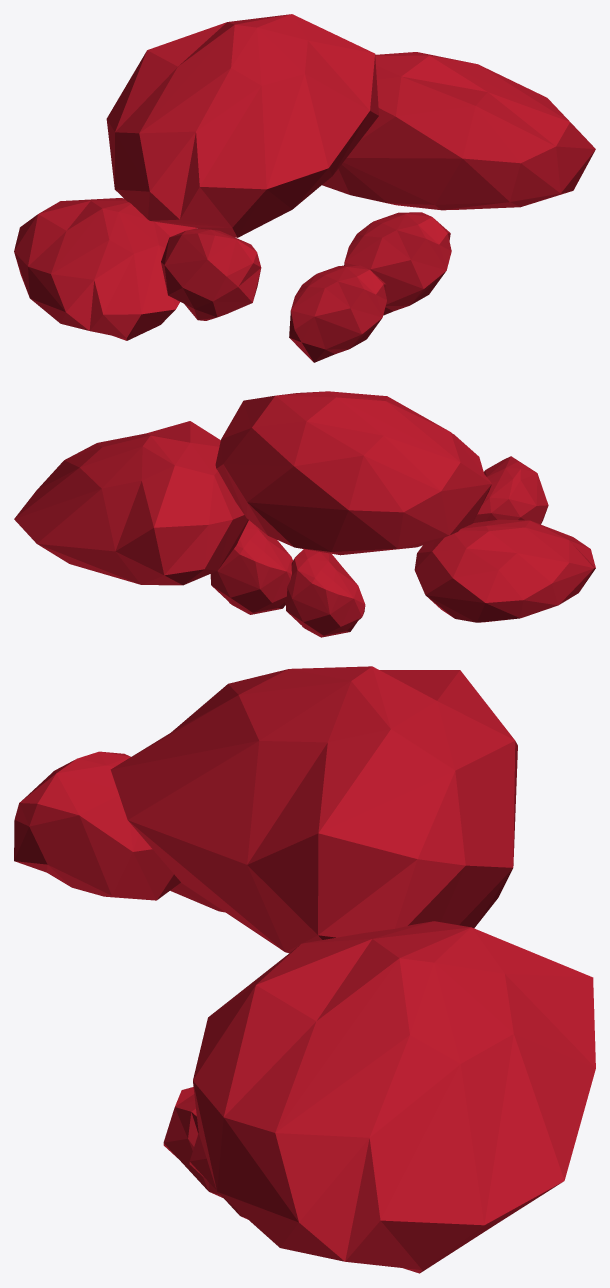
The model's file is tree-dead-leaves-5-049.glb.
The picture shows the model from 3 angles, top to bottom: view 1: azimuth 30°, elevation 25°; view 2: azimuth 150°, elevation 25°; view 3: azimuth 270°, elevation 25°; orthographic projection. The views are drawn at different scales.
Parts seen in each view (by area): view 1: TREE 5.007_514; view 2: TREE 5.007_514; view 3: TREE 5.007_514.
Boxes of the visible parts, x1,y1,x2,y2 form: TREE 5.007_514: [14, 14, 595, 362]; TREE 5.007_514: [14, 391, 595, 637]; TREE 5.007_514: [14, 666, 595, 1273].
Bounding box in the file's own units: 1.99 × 1.05 × 1.12.
